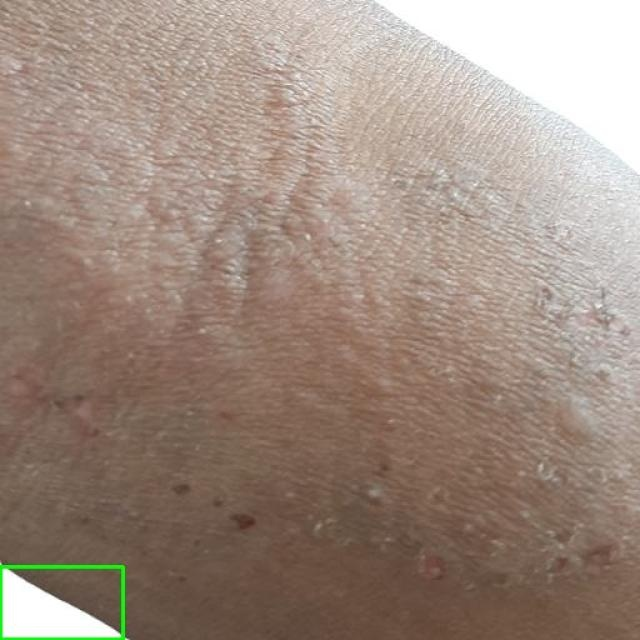Tinea Corporis: (0, 566, 122, 639)
